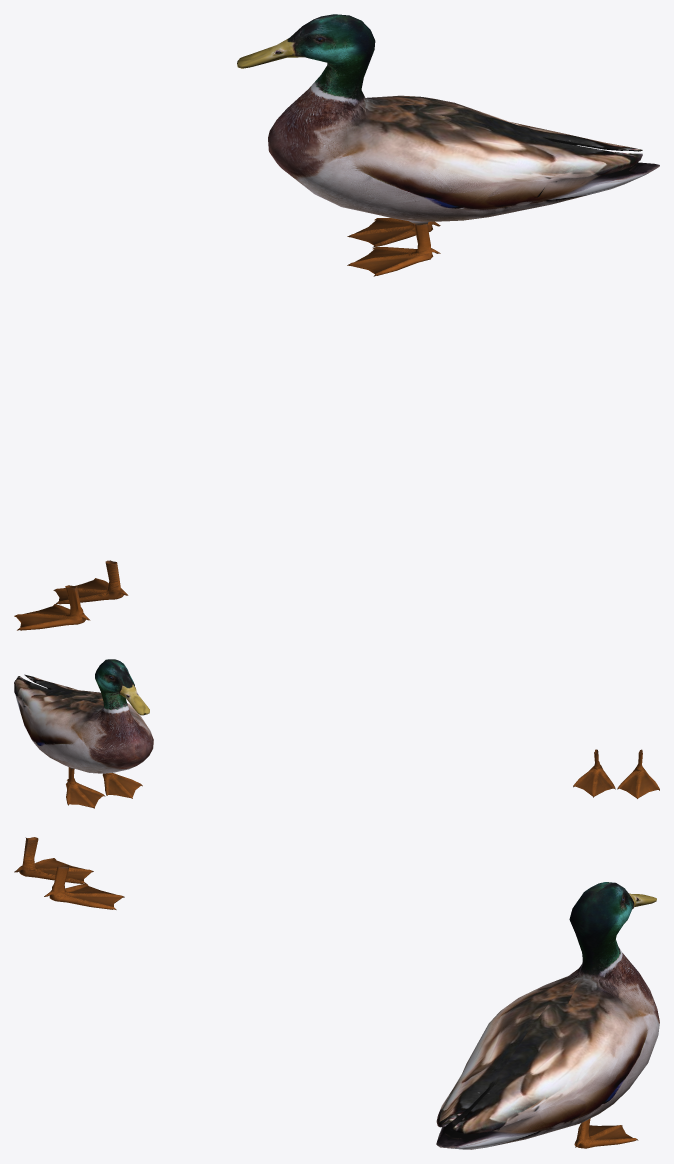
File: staticDucks.obj
3 renders of one model, top to bottom at view 1: azimuth 30°, elevation 25°; view 2: azimuth 150°, elevation 25°; view 3: azimuth 270°, elevation 25°, orthographic. The views are drawn at different scales.
Visible parts, largest first — view 1: 12248_Bird_v1_L2.017, 12248_Bird_v1_L2.002_12248_Bird_v1_L2.016; view 2: 12248_Bird_v1_L2.017, 12248_Bird_v1_L2.002_12248_Bird_v1_L2.016; view 3: 12248_Bird_v1_L2.017, 12248_Bird_v1_L2.002_12248_Bird_v1_L2.016.
Part boxes in pixels (bbox=[...]): 12248_Bird_v1_L2.017: bbox=[237, 14, 659, 276]; 12248_Bird_v1_L2.002_12248_Bird_v1_L2.016: bbox=[14, 560, 128, 630]; 12248_Bird_v1_L2.017: bbox=[14, 659, 153, 808]; 12248_Bird_v1_L2.002_12248_Bird_v1_L2.016: bbox=[573, 749, 659, 798]; 12248_Bird_v1_L2.017: bbox=[436, 882, 659, 1149]; 12248_Bird_v1_L2.002_12248_Bird_v1_L2.016: bbox=[14, 837, 124, 909].
Bounding box in the file's own units: 0.634 × 0.1938 × 0.4304.
2 materials, 2 textured.
